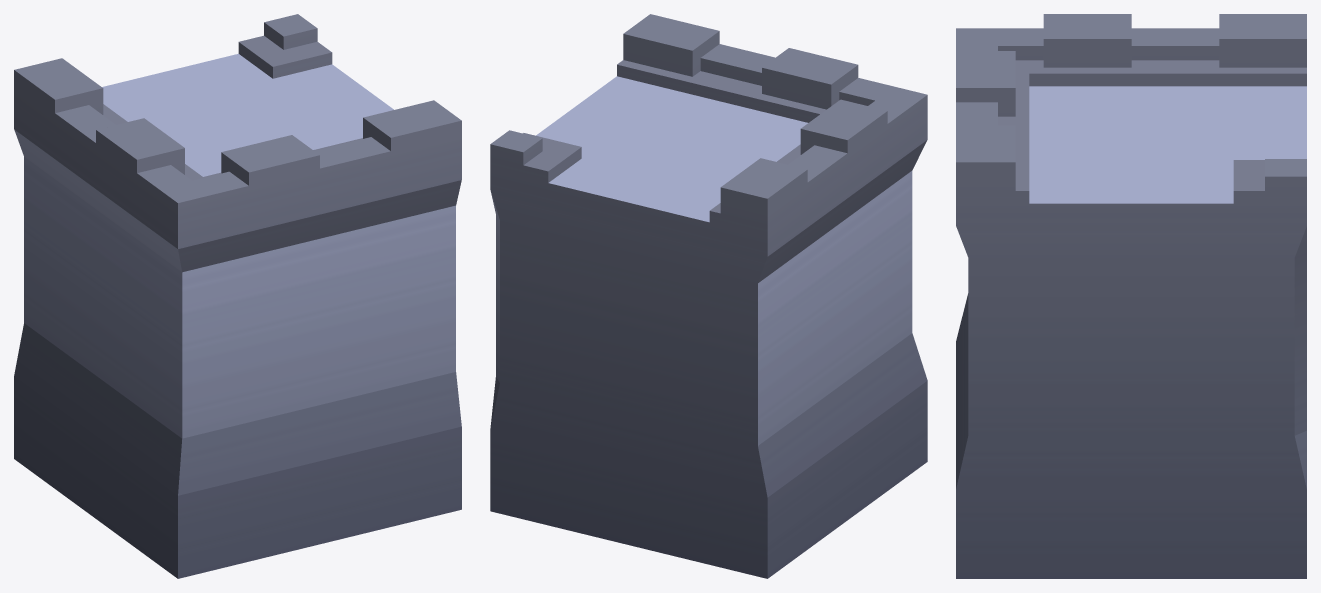
The model's file is wall-corner.fbx.
3 renders of one model, left to right at view 1: azimuth 30°, elevation 25°; view 2: azimuth 150°, elevation 25°; view 3: azimuth 270°, elevation 25°, orthographic. The views are drawn at different scales.
Parts seen in each view (by area): view 1: wall-corner; view 2: wall-corner; view 3: wall-corner.
Boxes of the visible parts, x1,y1,x2,y2 form: wall-corner: (14, 14, 461, 578); wall-corner: (490, 14, 927, 578); wall-corner: (956, 14, 1306, 578).
Bounding box in the file's own units: 1 × 1 × 1.31.
